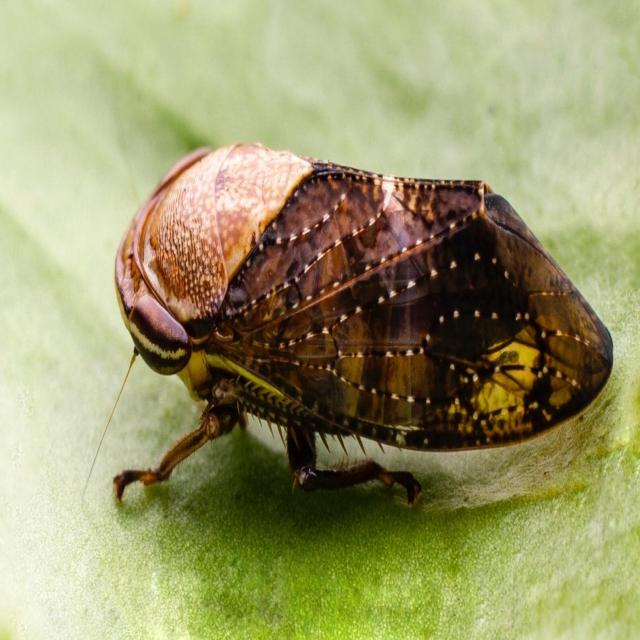Yechan: (92, 137, 620, 510)
